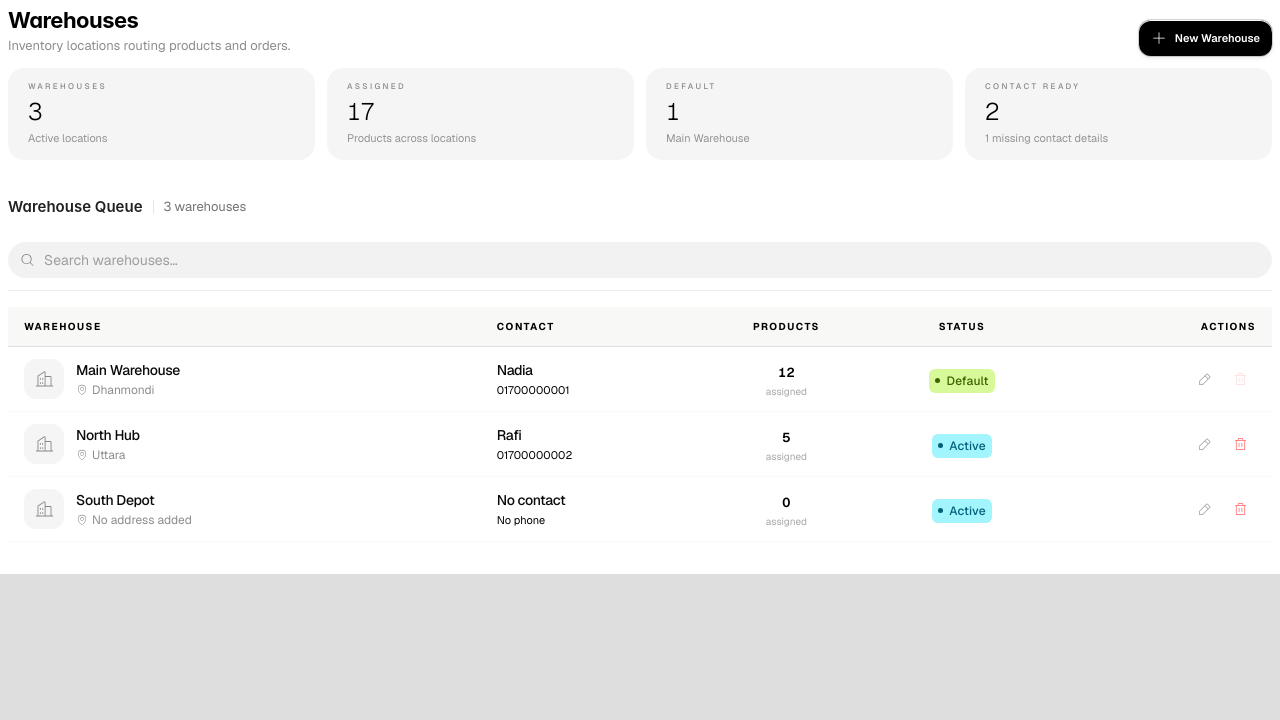
Test: warehouse directory › shows inventory metrics and filters across warehouse metadata
Expected: the heading "Warehouses" is shown, [8, 7, 138, 33]
Expected: the text "Warehouse Queue" is shown, [8, 196, 142, 218]
Type "uttara" into the field with test id "input-search-warehouses" at [640, 260], box [8, 242, 1272, 278]
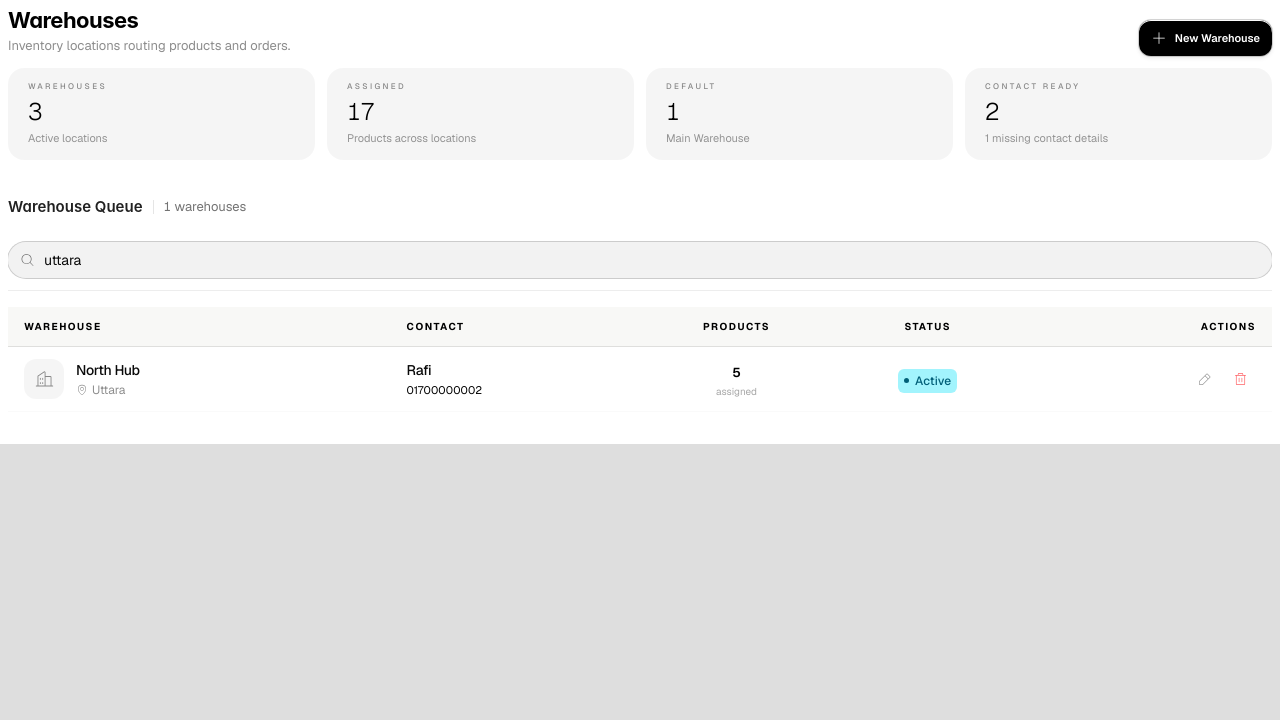
Expected: the text "North Hub" is shown, [76, 360, 140, 380]
Expected: the text "South Depot" is gone
